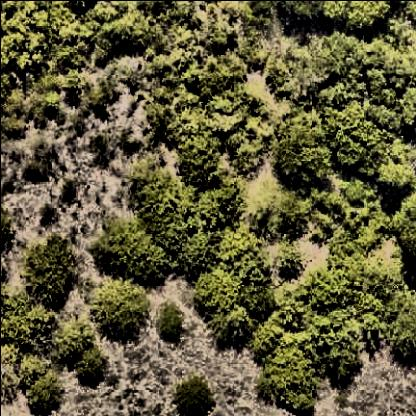tree-top: (137, 178, 237, 256), (4, 1, 90, 81), (255, 329, 323, 413), (267, 112, 335, 188), (15, 235, 81, 308), (189, 266, 252, 340), (241, 178, 315, 240), (323, 108, 391, 175), (94, 216, 163, 282), (91, 275, 154, 345), (55, 318, 109, 386), (124, 168, 188, 225), (169, 125, 227, 185), (1, 297, 55, 355), (377, 286, 416, 362), (313, 2, 402, 35), (21, 366, 67, 416), (210, 224, 260, 268), (170, 375, 216, 416), (395, 191, 416, 269), (156, 306, 185, 342), (1, 198, 17, 252)
